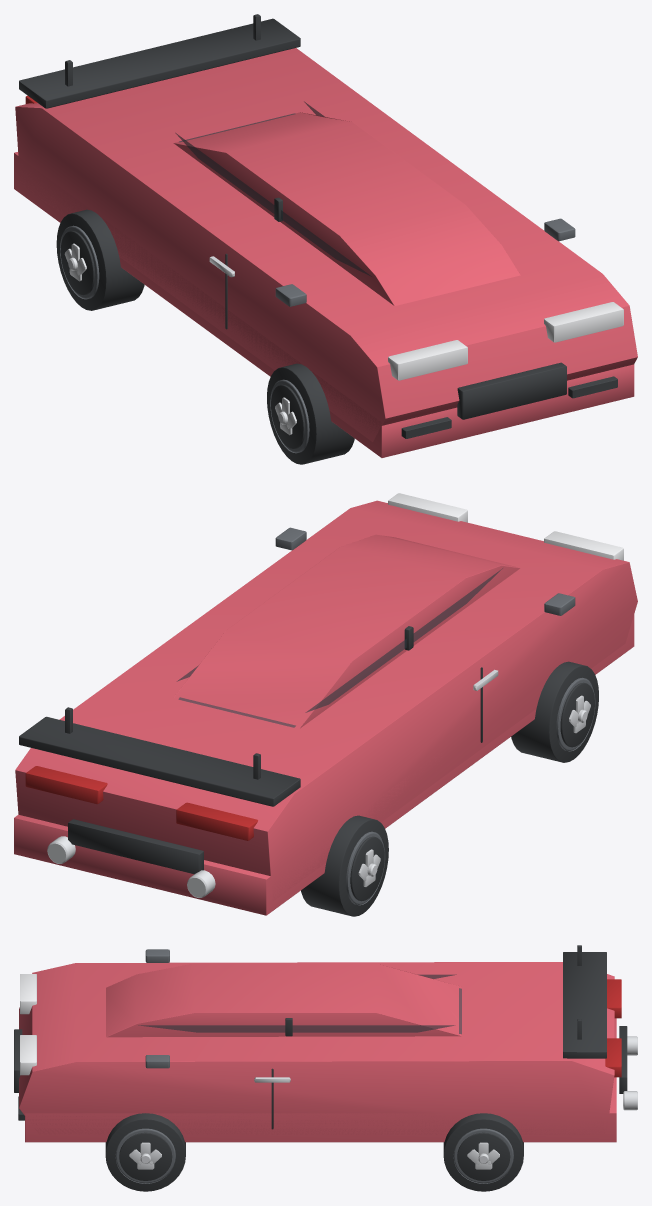
The model's file is nexus-sprint-r.glb.
3 renders of one model, top to bottom at view 1: azimuth 30°, elevation 25°; view 2: azimuth 150°, elevation 25°; view 3: azimuth 270°, elevation 25°, orthographic. The views are drawn at different scales.
Parts seen in each view (by area): view 1: paint, trim, head, accent, glass, rim; view 2: paint, trim, tail, rim, head, accent, glass; view 3: paint, trim, glass, accent, rim, head, tail.
Boxes of the visible parts, <box> form: paint: <box>14,48,637,457</box>; trim: <box>19,14,617,464</box>; head: <box>388,302,623,380</box>; accent: <box>60,218,575,453</box>; glass: <box>175,101,371,276</box>; rim: <box>64,243,296,435</box>; paint: <box>14,500,637,915</box>; trim: <box>19,626,598,916</box>; tail: <box>25,766,257,840</box>; rim: <box>47,669,590,897</box>; head: <box>388,493,623,560</box>; accent: <box>275,527,595,905</box>; glass: <box>177,568,502,727</box>; paint: <box>19,962,616,1142</box>; trim: <box>14,945,627,1191</box>; glass: <box>138,974,461,1034</box>; accent: <box>115,949,513,1183</box>; rim: <box>129,1036,637,1169</box>; head: <box>20,974,36,1075</box>; tail: <box>605,979,621,1077</box>.
Bounding box in the file's own units: 2.11 × 1.26 × 4.65.
